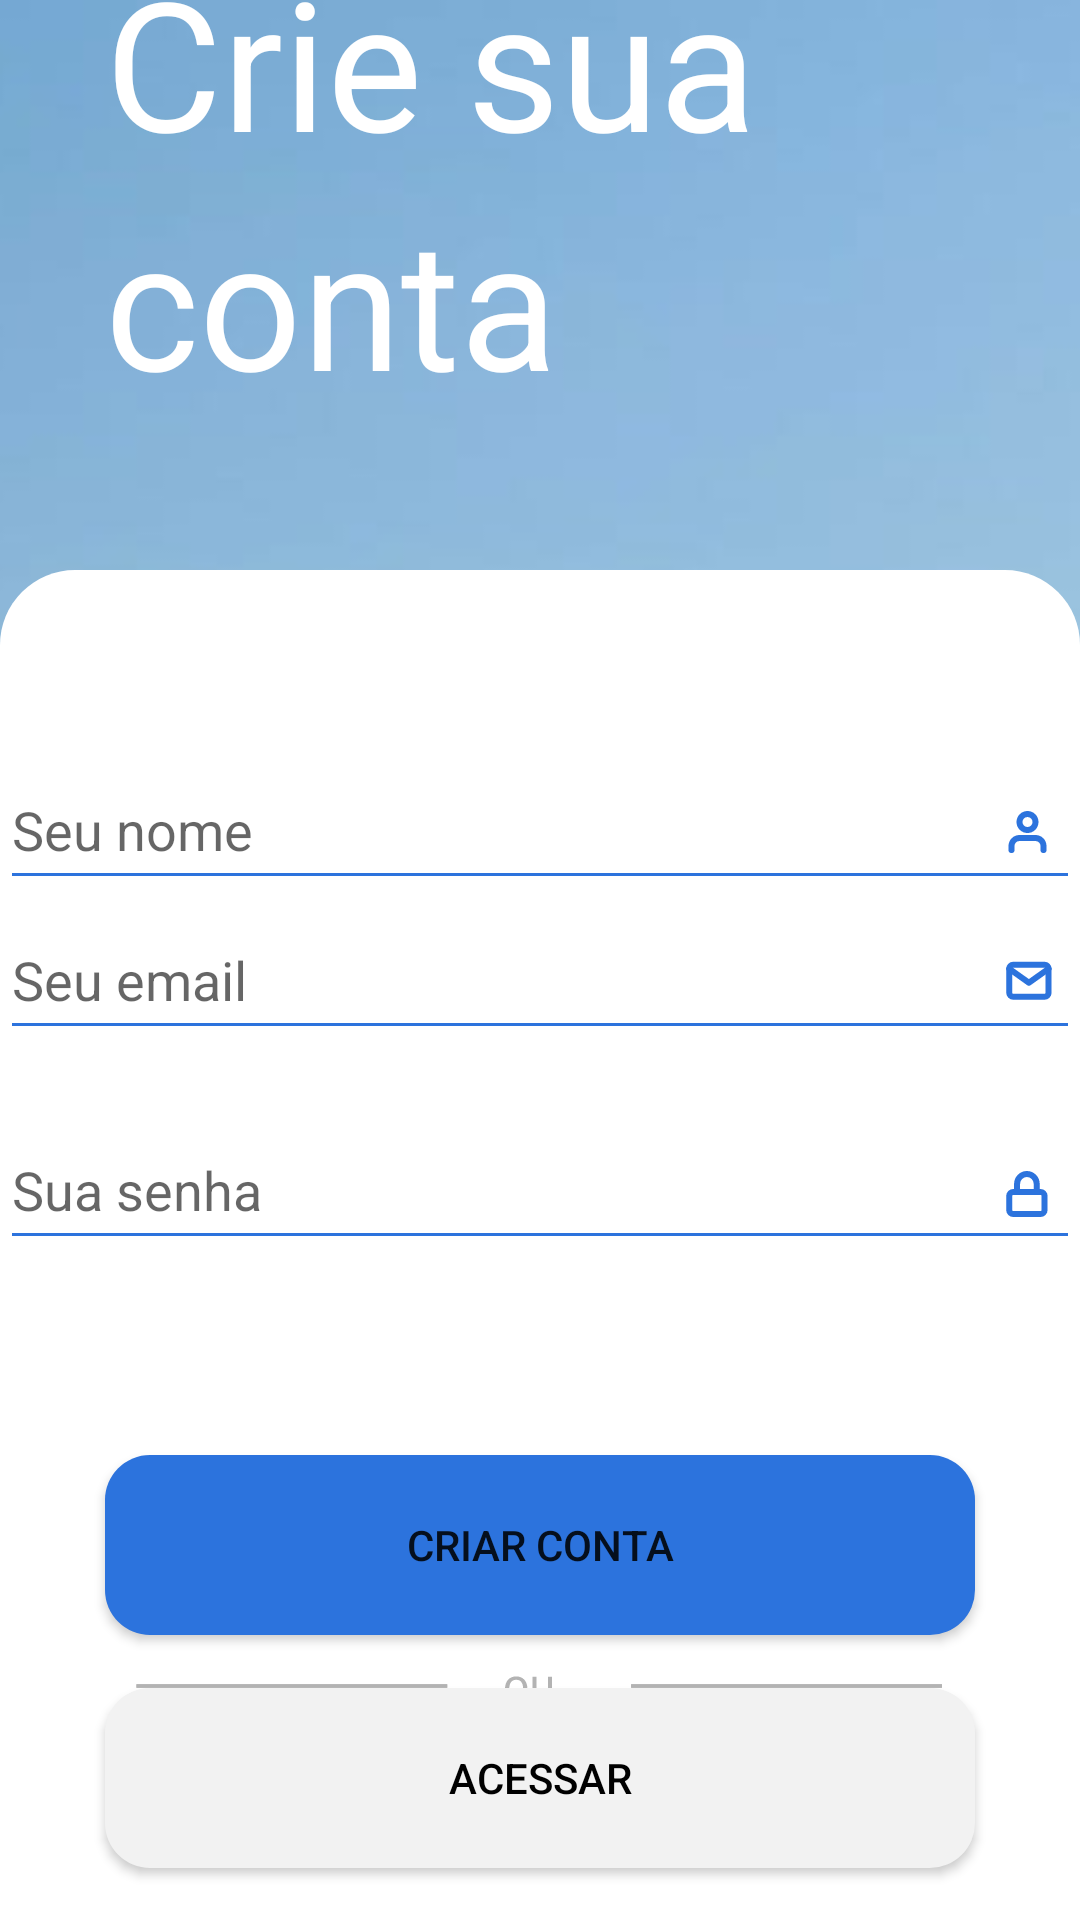

Icon click points for this 1080×1920 phone screenshot, format [x,y]:
cadeado: [1027,1194]
user: [1027,832]
